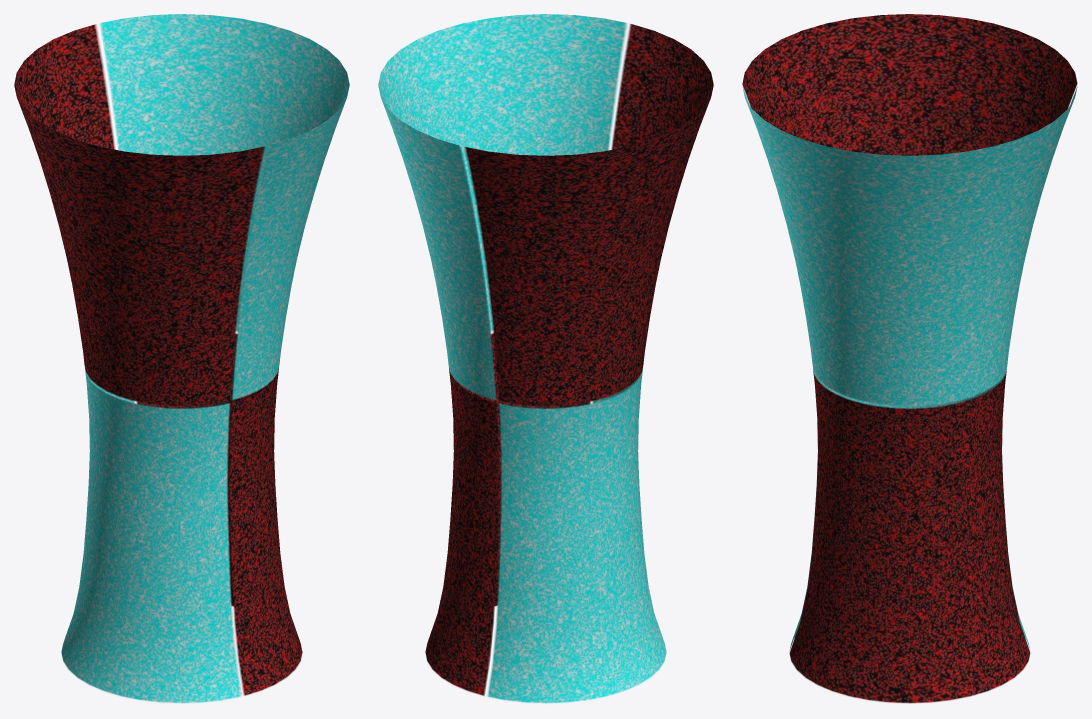
The picture shows the model from 3 angles, left to right: view 1: azimuth 30°, elevation 25°; view 2: azimuth 150°, elevation 25°; view 3: azimuth 270°, elevation 25°; orthographic projection.
Visible parts, largest first — view 1: SM_VFX_Cylinder_SpiralFire_LOD0; view 2: SM_VFX_Cylinder_SpiralFire_LOD0; view 3: SM_VFX_Cylinder_SpiralFire_LOD0.
Part boxes in pixels (x1,y1,x2,y2): SM_VFX_Cylinder_SpiralFire_LOD0: (14,14,349,703); SM_VFX_Cylinder_SpiralFire_LOD0: (378,14,713,703); SM_VFX_Cylinder_SpiralFire_LOD0: (742,14,1077,703).
Bounding box in the file's own units: 0.4491 × 0.8401 × 0.4491.
Materials: 1 (1 with a texture image).
